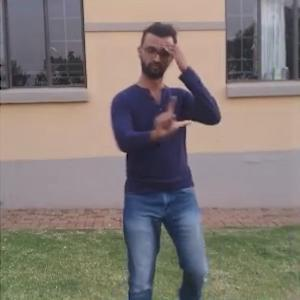land_hand: (147, 89, 193, 144)
